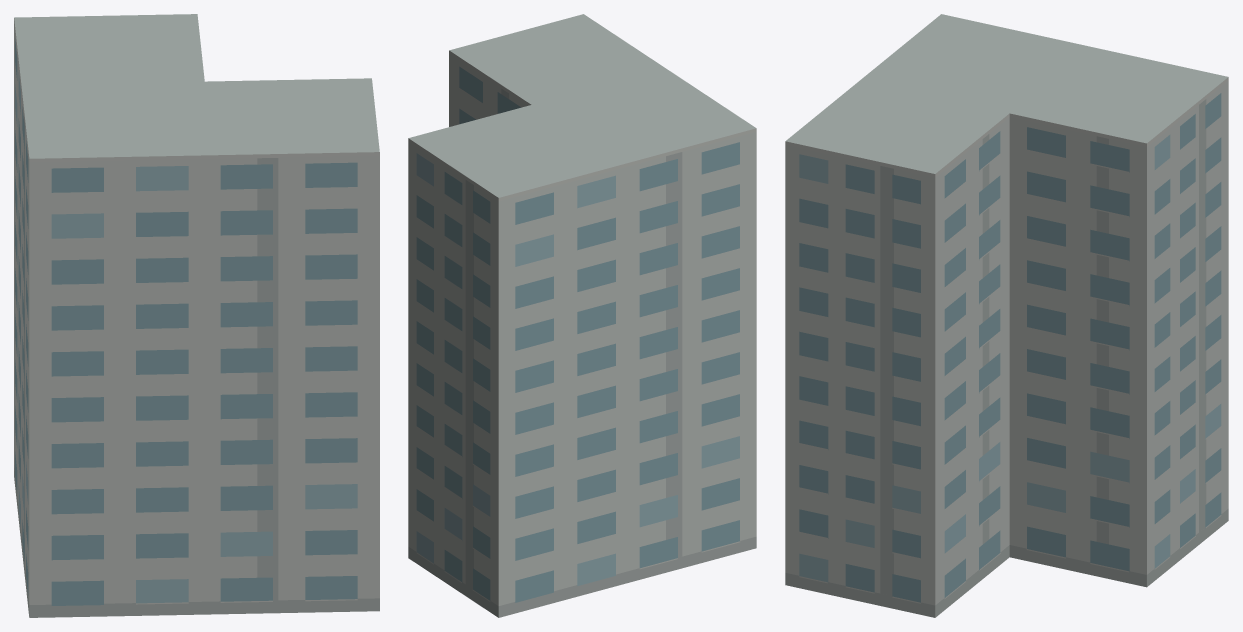
File: residential-28b48d04-90b2-4d91-ad43-fb0cd3fc748c.glb
The picture shows the model from 3 angles, left to right: view 1: azimuth 30°, elevation 25°; view 2: azimuth 150°, elevation 25°; view 3: azimuth 270°, elevation 25°; orthographic projection. The views are drawn at different scales.
Parts seen in each view (by area): view 1: residential-28b48d04-90b2-4d91-ad43-fb0cd3fc748c.tmp; view 2: residential-28b48d04-90b2-4d91-ad43-fb0cd3fc748c.tmp; view 3: residential-28b48d04-90b2-4d91-ad43-fb0cd3fc748c.tmp.
Part boxes in pixels (x1,y1,x2,y2): residential-28b48d04-90b2-4d91-ad43-fb0cd3fc748c.tmp: [14, 14, 379, 617]; residential-28b48d04-90b2-4d91-ad43-fb0cd3fc748c.tmp: [408, 14, 756, 617]; residential-28b48d04-90b2-4d91-ad43-fb0cd3fc748c.tmp: [785, 14, 1228, 617].
Bounding box in the file's own units: 22.44 × 29 × 26.26.
